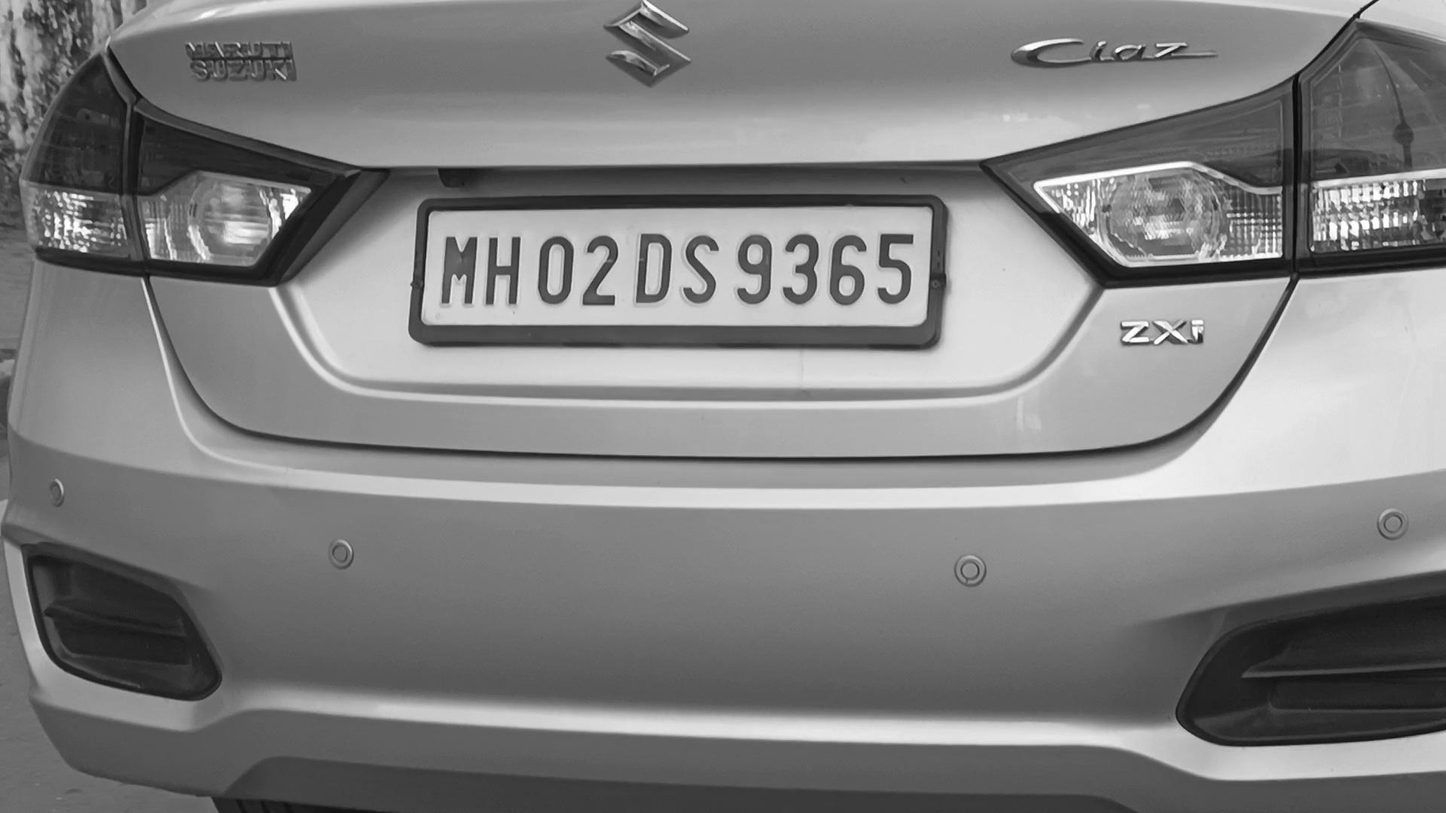number_plate: (424, 210, 928, 338)
